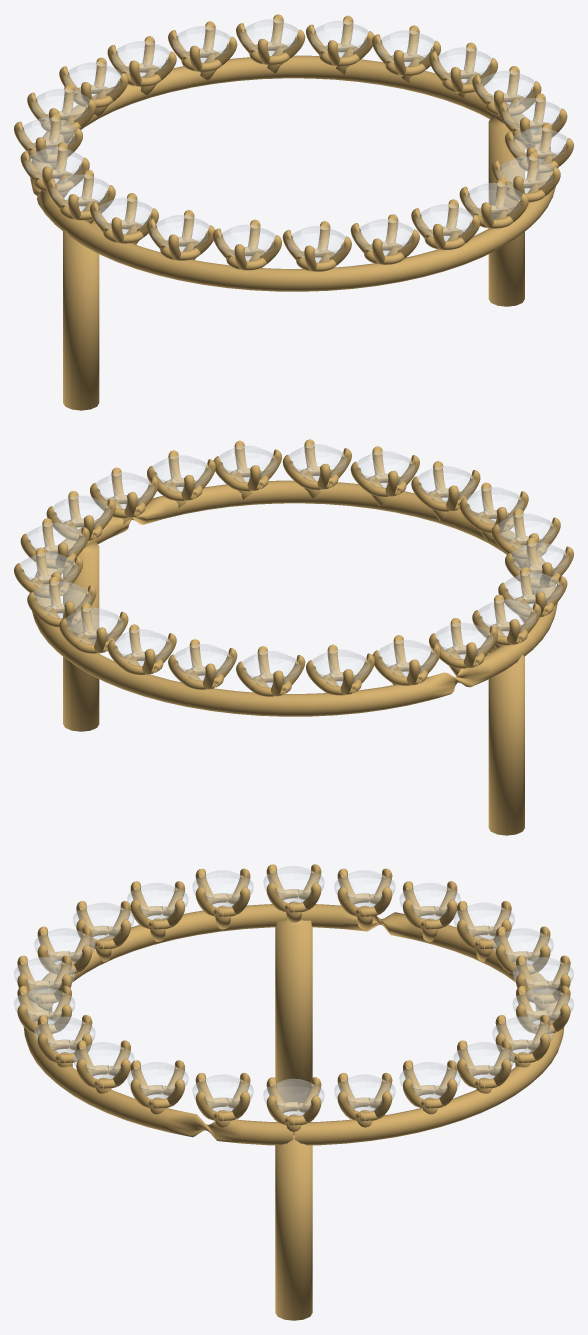
The model's file is layouts-halo.glb.
3 views of the same model, one above another, from view 1: azimuth 30°, elevation 25°; view 2: azimuth 150°, elevation 25°; view 3: azimuth 270°, elevation 25° (orthographic). The views are drawn at different scales.
Visible parts, largest first — view 1: Bezel rim, Halo shoulder support, Halo shoulder support.001, Gem.007, Gem.018, Gem.019, Gem.005, Gem.015, Gem.016, Gem.017, Gem.006, Gem.014 (+13 smaller); view 2: Bezel rim, Halo shoulder support, Halo shoulder support.001, Gem.017, Gem.006, Gem.005, Gem.009, Gem.007, Gem.008, Gem.019, Gem.010, Gem.018 (+13 smaller); view 3: Bezel rim, Halo shoulder support, Halo shoulder support.001, Gem.002, Gem.013, Gem.022, Gem.011, Gem.012, Gem.003, Gem.021, Gem.001, Gem.020 (+13 smaller).
Boxes of the visible parts, x1=… form: Bezel rim: x1=30, y1=55, x2=555, y2=291; Halo shoulder support: x1=63, y1=221, x2=99, y2=410; Halo shoulder support.001: x1=488, y1=116, x2=524, y2=306; Gem.007: x1=112, y1=41, x2=170, y2=77; Gem.018: x1=416, y1=204, x2=473, y2=240; Gem.019: x1=464, y1=183, x2=521, y2=219; Gem.005: x1=241, y1=19, x2=298, y2=55; Gem.015: x1=218, y1=224, x2=275, y2=260; Gem.016: x1=287, y1=226, x2=345, y2=262; Gem.017: x1=355, y1=219, x2=413, y2=255; Gem.006: x1=173, y1=26, x2=230, y2=62; Gem.014: x1=151, y1=215, x2=209, y2=251; Bezel rim: x1=32, y1=480, x2=557, y2=716; Halo shoulder support: x1=488, y1=646, x2=524, y2=835; Halo shoulder support.001: x1=63, y1=541, x2=99, y2=731; Gem.017: x1=417, y1=466, x2=475, y2=502; Gem.006: x1=114, y1=629, x2=171, y2=665; Gem.005: x1=66, y1=608, x2=123, y2=644; Gem.009: x1=312, y1=649, x2=369, y2=685; Gem.007: x1=174, y1=644, x2=232, y2=680; Gem.008: x1=242, y1=651, x2=300, y2=687; Gem.019: x1=289, y1=444, x2=346, y2=480; Gem.010: x1=378, y1=640, x2=436, y2=676; Gem.018: x1=357, y1=451, x2=414, y2=487; Bezel rim: x1=23, y1=904, x2=564, y2=1145; Halo shoulder support: x1=275, y1=920, x2=312, y2=1103; Halo shoulder support.001: x1=275, y1=1135, x2=312, y2=1320; Gem.002: x1=334, y1=1074, x2=395, y2=1111; Gem.013: x1=192, y1=870, x2=253, y2=907; Gem.022: x1=192, y1=1074, x2=253, y2=1111; Gem.011: x1=334, y1=870, x2=395, y2=907; Gem.012: x1=263, y1=866, x2=324, y2=902; Gem.003: x1=399, y1=1062, x2=460, y2=1098; Gem.021: x1=127, y1=1062, x2=188, y2=1098; Gem.001: x1=263, y1=1079, x2=324, y2=1115; Gem.020: x1=73, y1=1042, x2=133, y2=1079.
Size of the model in its own units: 9.65 by 4.27 by 9.56.
